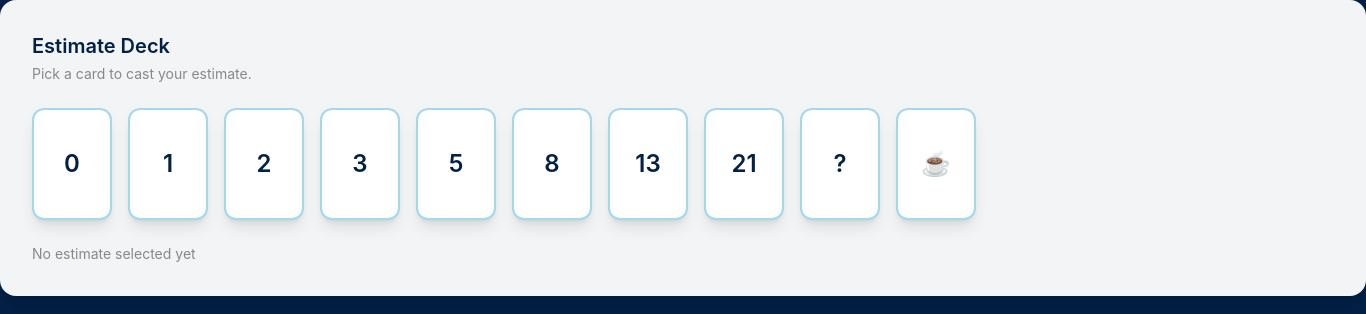
it: EstimateDeck › deselects a card when clicked again
Click the button "5" at x=456, y=164, box [416,108,496,220]
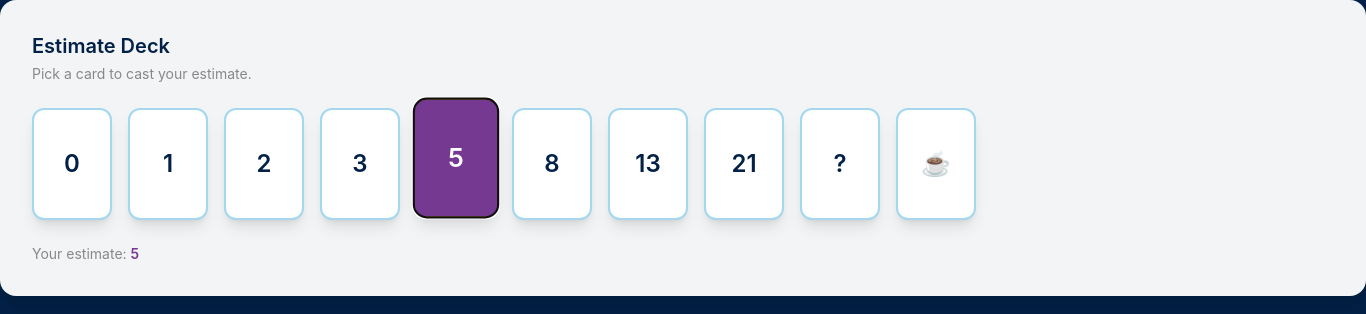
Check: the button "5" is pressed
Click the button "5" at x=456, y=158, box [413,98,499,218]
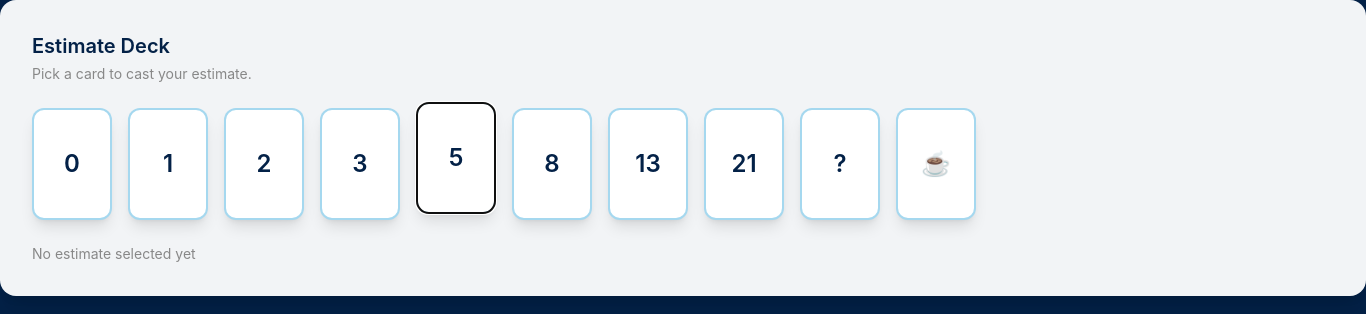
Check: the text "No estimate selected yet" is shown, box [32,245,196,262]
